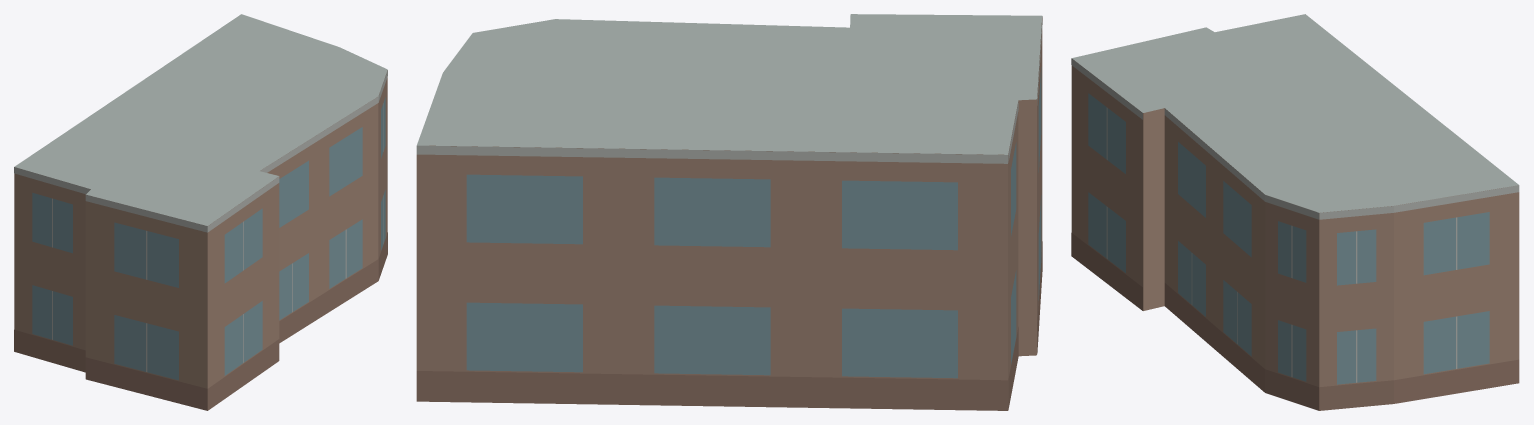
The model's file is survey-upis-32952737.glb.
The picture shows the model from 3 angles, left to right: view 1: azimuth 30°, elevation 25°; view 2: azimuth 150°, elevation 25°; view 3: azimuth 270°, elevation 25°; orthographic projection. The views are drawn at different scales.
Visible parts, largest first — view 1: survey-upis-32952737.tmp; view 2: survey-upis-32952737.tmp; view 3: survey-upis-32952737.tmp.
Part boxes in pixels (x1,y1,x2,y2): survey-upis-32952737.tmp: (14,14,387,410); survey-upis-32952737.tmp: (416,14,1042,410); survey-upis-32952737.tmp: (1071,14,1519,410).
Size of the model in its own units: 14.86 by 6.9 by 14.15.
